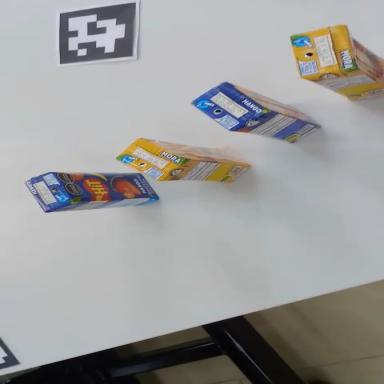HIT-MANGO: (188, 74, 323, 160), (25, 165, 159, 214)
HIT-MORA: (289, 17, 384, 112), (114, 135, 251, 196)
